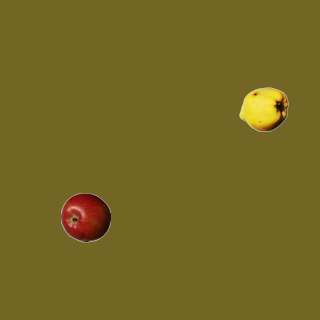Apple Braeburn: (60, 192, 110, 242)
Quince: (238, 84, 288, 134)
